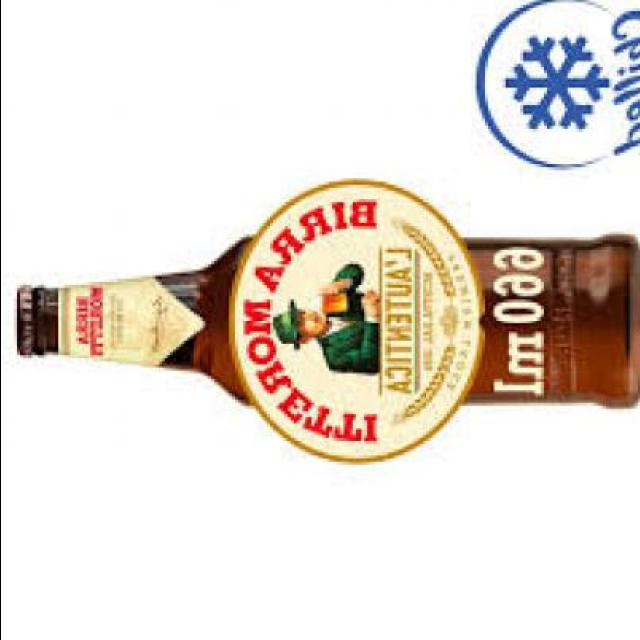kaca: (27, 236, 640, 407)
